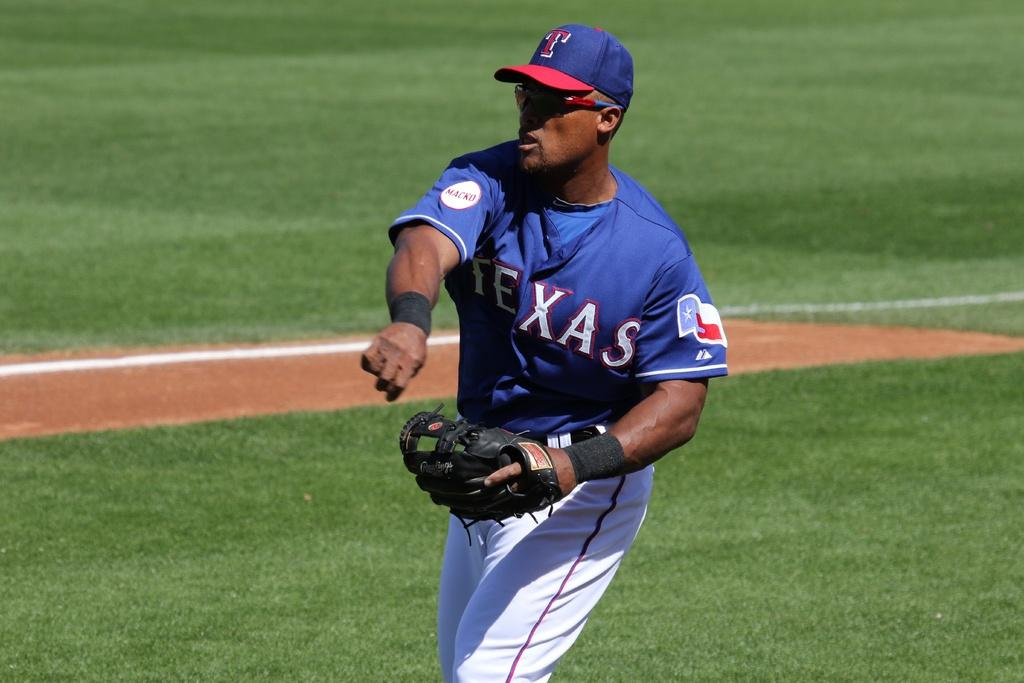Hat: (494, 22, 636, 107)
